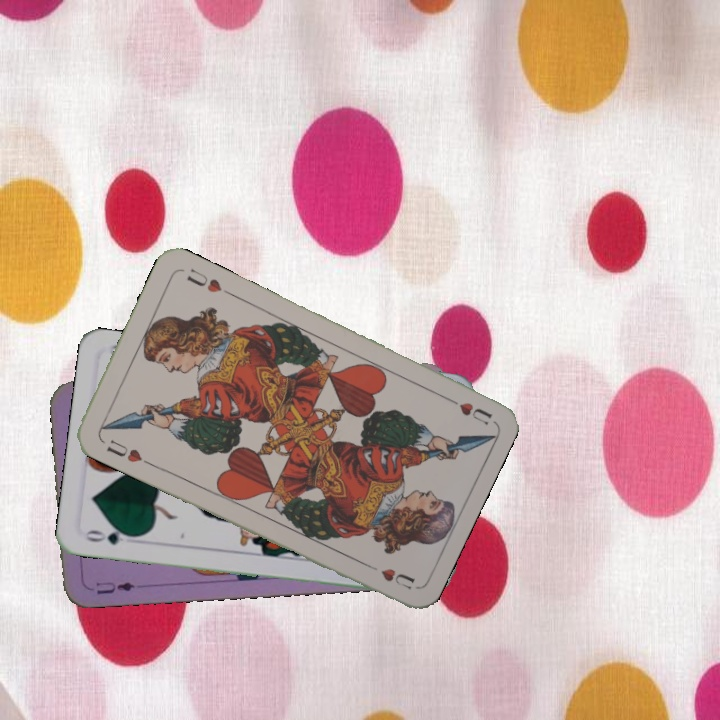EU: (92, 578, 137, 597)
GO: (81, 524, 140, 548)
HU: (440, 391, 495, 428), (102, 435, 145, 465)
